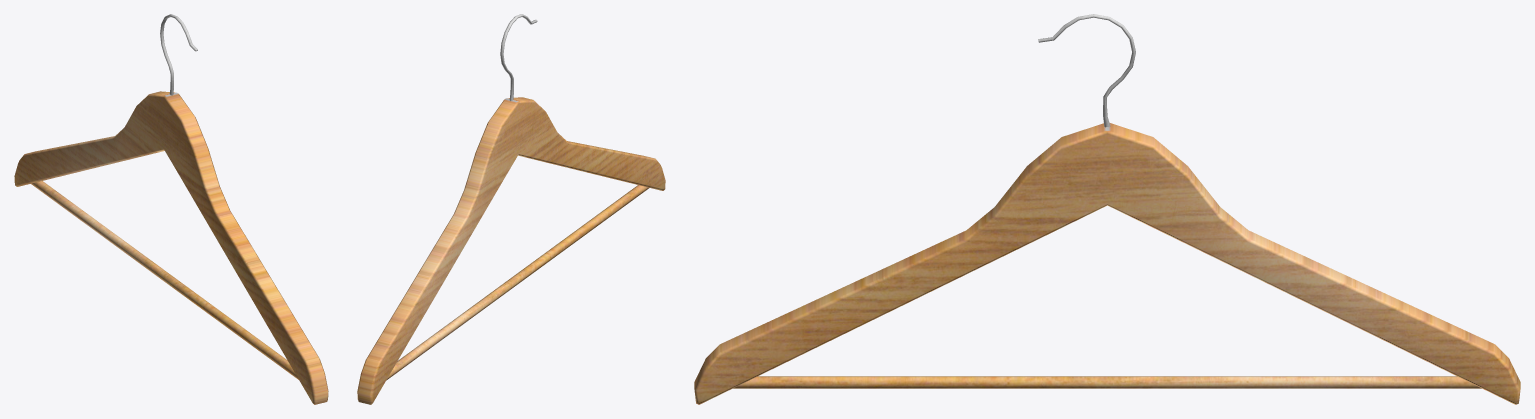
Rendered from model_cloth_hanger_NEW.obj.
The picture shows the model from 3 angles, left to right: view 1: azimuth 30°, elevation 25°; view 2: azimuth 150°, elevation 25°; view 3: azimuth 270°, elevation 25°; orthographic projection. The views are drawn at different scales.
Parts seen in each view (by area): view 1: model_cloth_hanger; view 2: model_cloth_hanger; view 3: model_cloth_hanger.
Boxes of the visible parts, x1,y1,x2,y2 form: model_cloth_hanger: (14,14,328,404); model_cloth_hanger: (357,14,665,404); model_cloth_hanger: (694,14,1520,404).
Size of the model in its own units: 0.7454 by 13.05 by 25.24.
